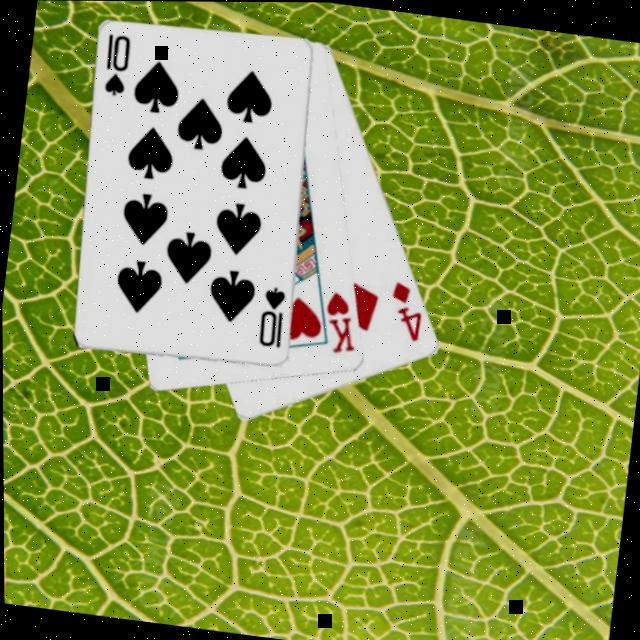10S: (101, 28, 137, 99), (256, 280, 292, 349)
4D: (384, 275, 430, 343)
KH: (319, 285, 366, 355)
